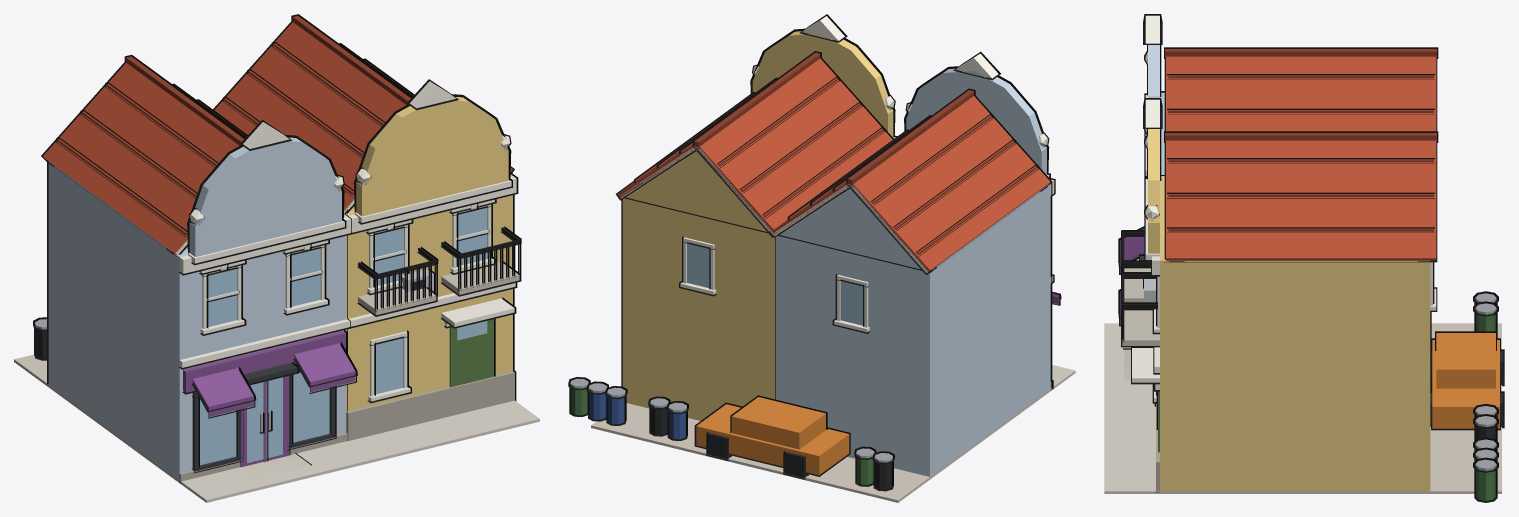
File: Blok_duz_2k_6.fbx
The picture shows the model from 3 angles, left to right: view 1: azimuth 30°, elevation 25°; view 2: azimuth 150°, elevation 25°; view 3: azimuth 270°, elevation 25°; orthographic projection. The views are drawn at different scales.
Visible parts, largest first — view 1: Blok_duz_2k_6; view 2: Blok_duz_2k_6; view 3: Blok_duz_2k_6.
Part boxes in pixels (left/top/right/bottom): Blok_duz_2k_6: left=14, top=14, right=539, bottom=502; Blok_duz_2k_6: left=568, top=14, right=1075, bottom=502; Blok_duz_2k_6: left=1104, top=14, right=1504, bottom=502.
Bounding box in the file's own units: 11.06 × 9.9 × 10.07.
